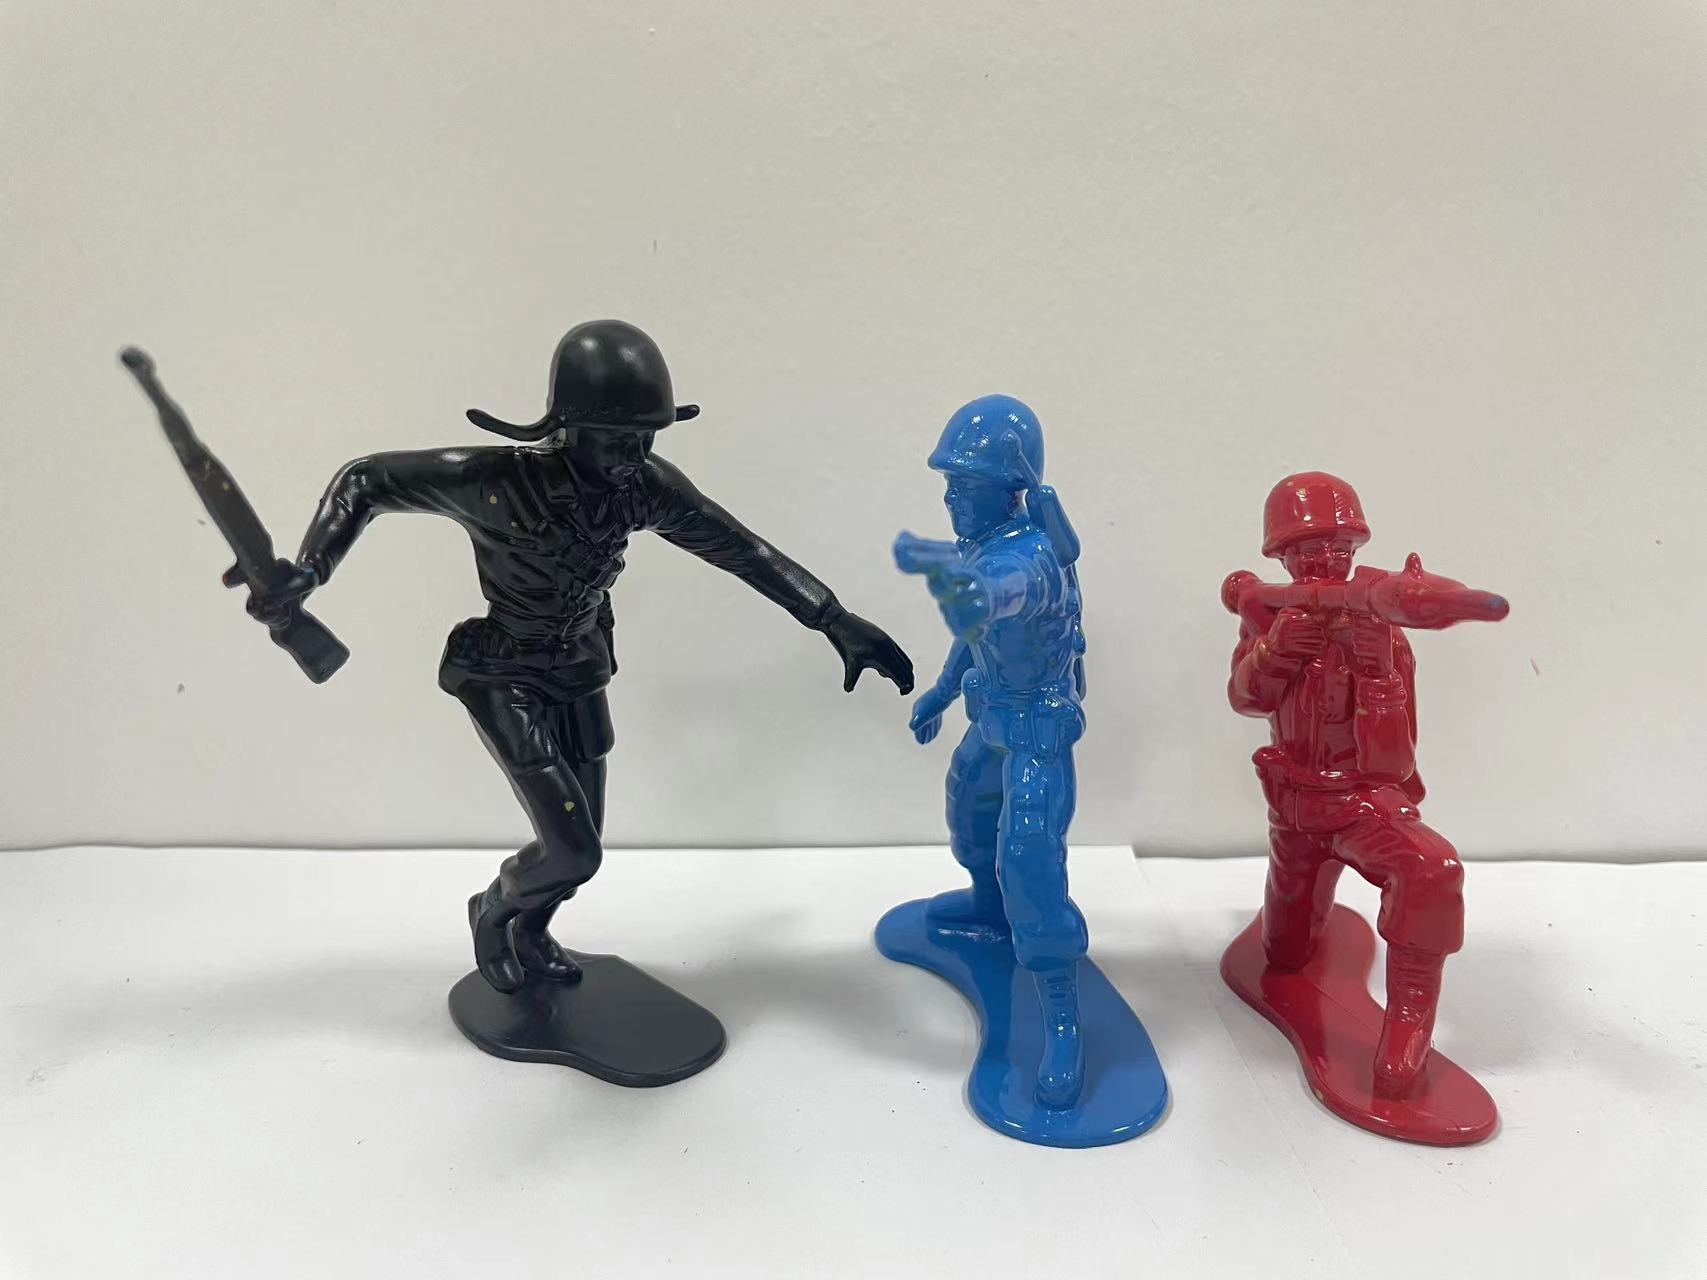black: (103, 262, 922, 1121)
blue: (858, 368, 1192, 1168)
red: (1206, 445, 1587, 1182)
